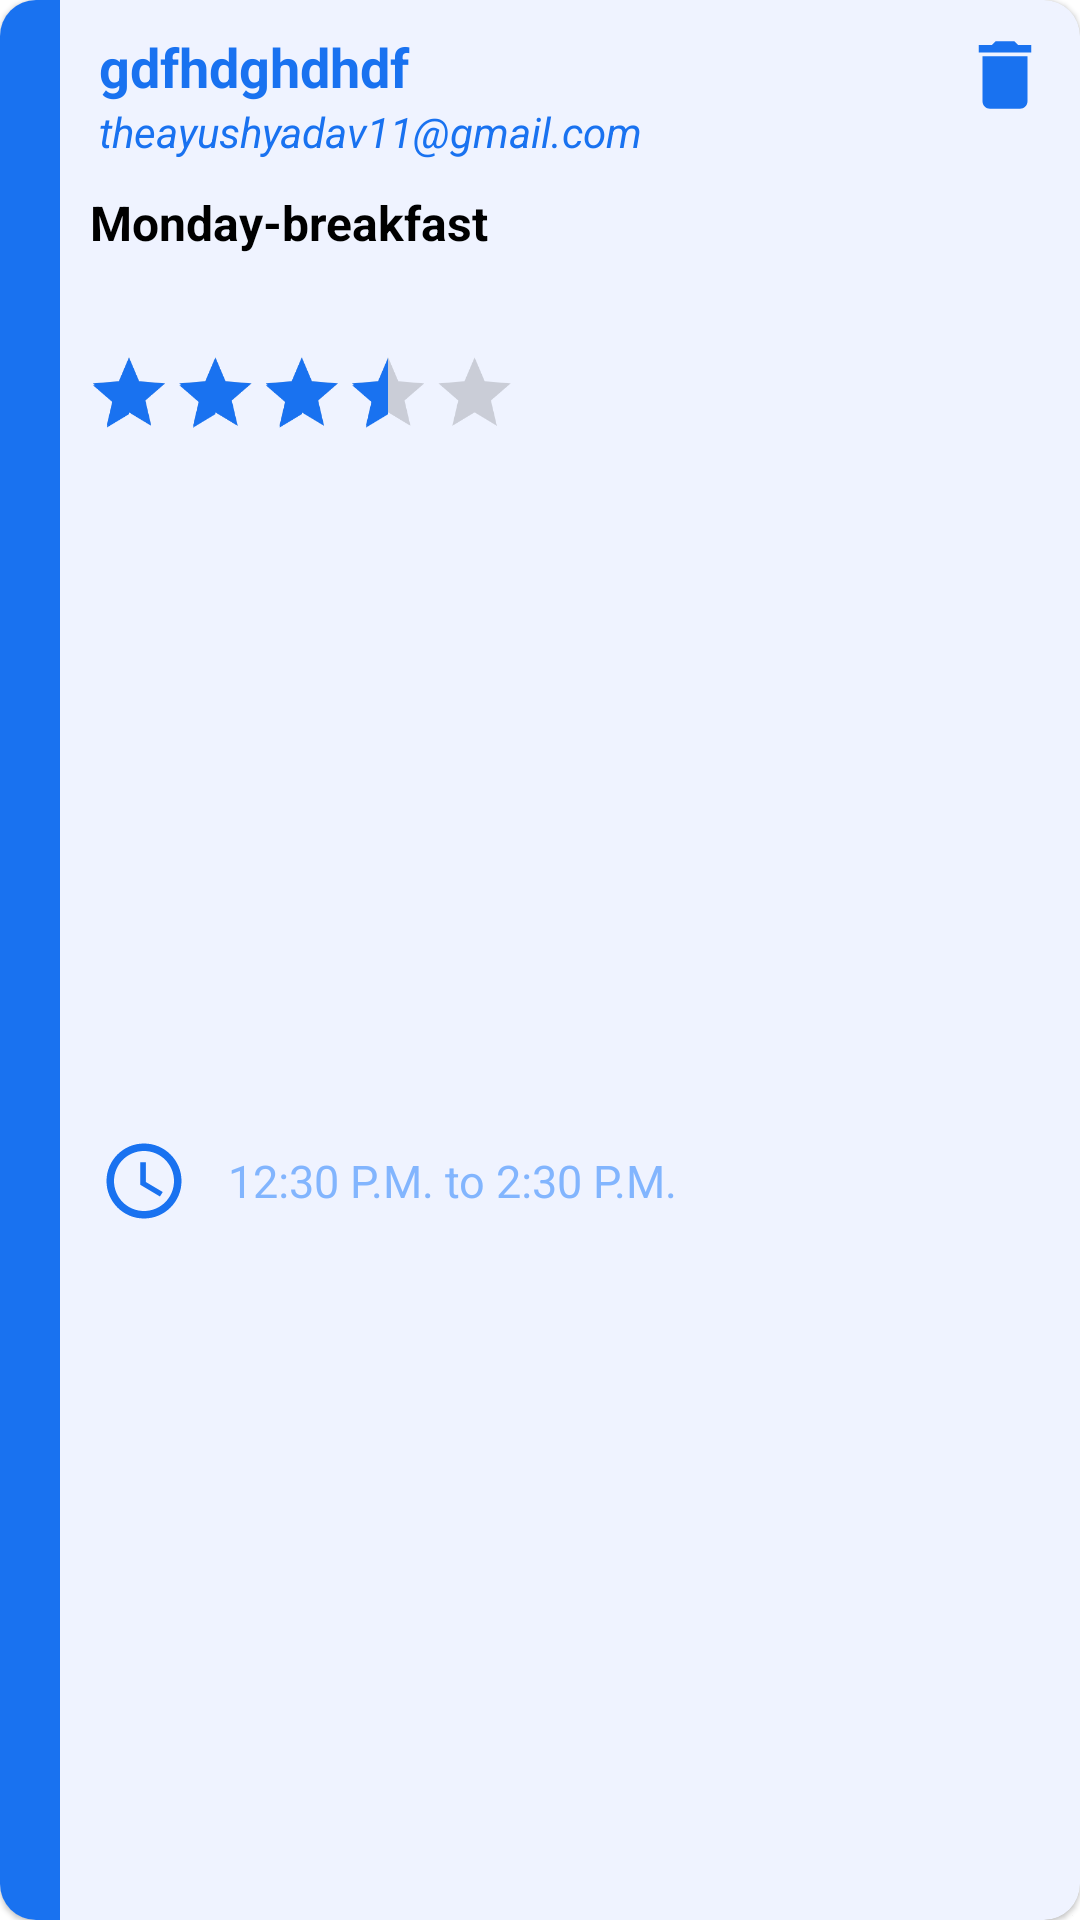

Where to tap for icons on this 1080*1920 app screen, as (x=x, y=y):
access time: (x=144, y=1181)
